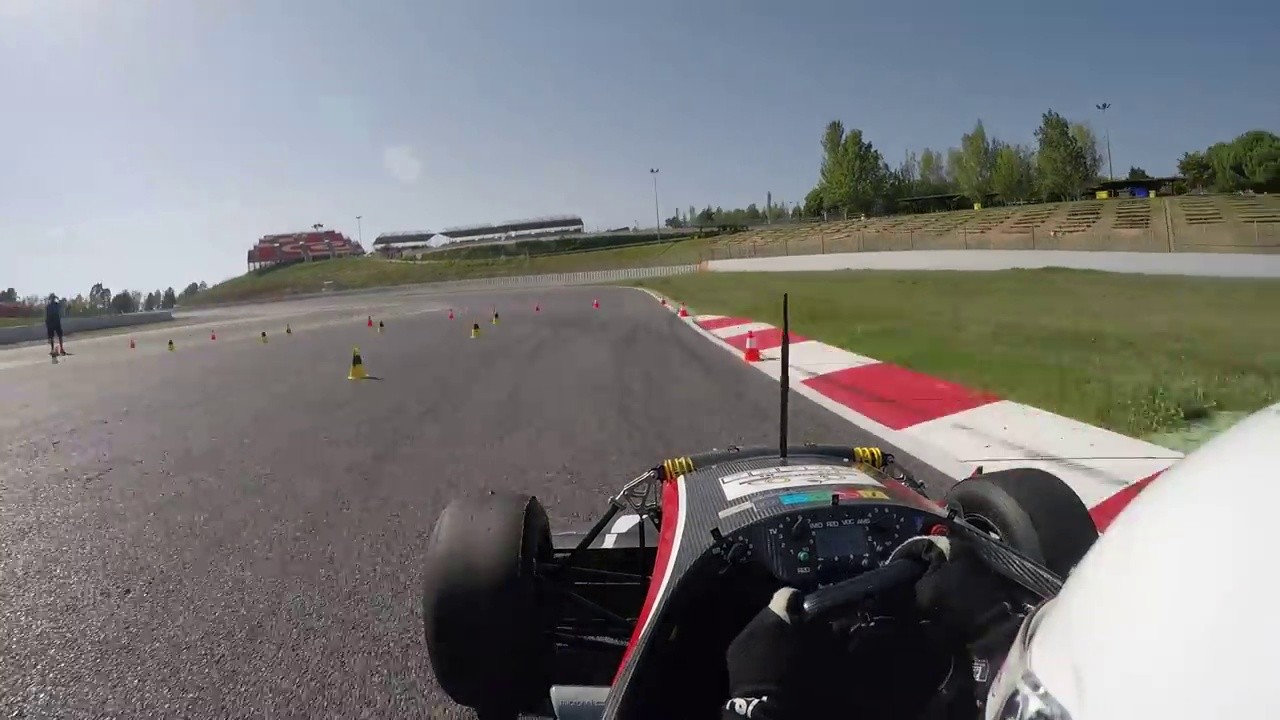Cone: (345, 344, 370, 384), (743, 327, 767, 366)
